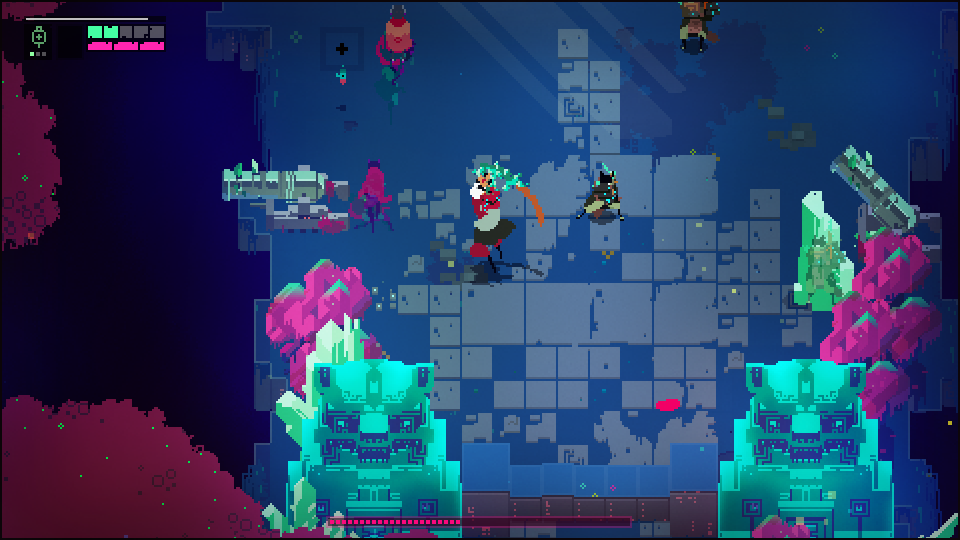hanged_man: (466, 160, 546, 289)
player: (382, 3, 416, 70)
